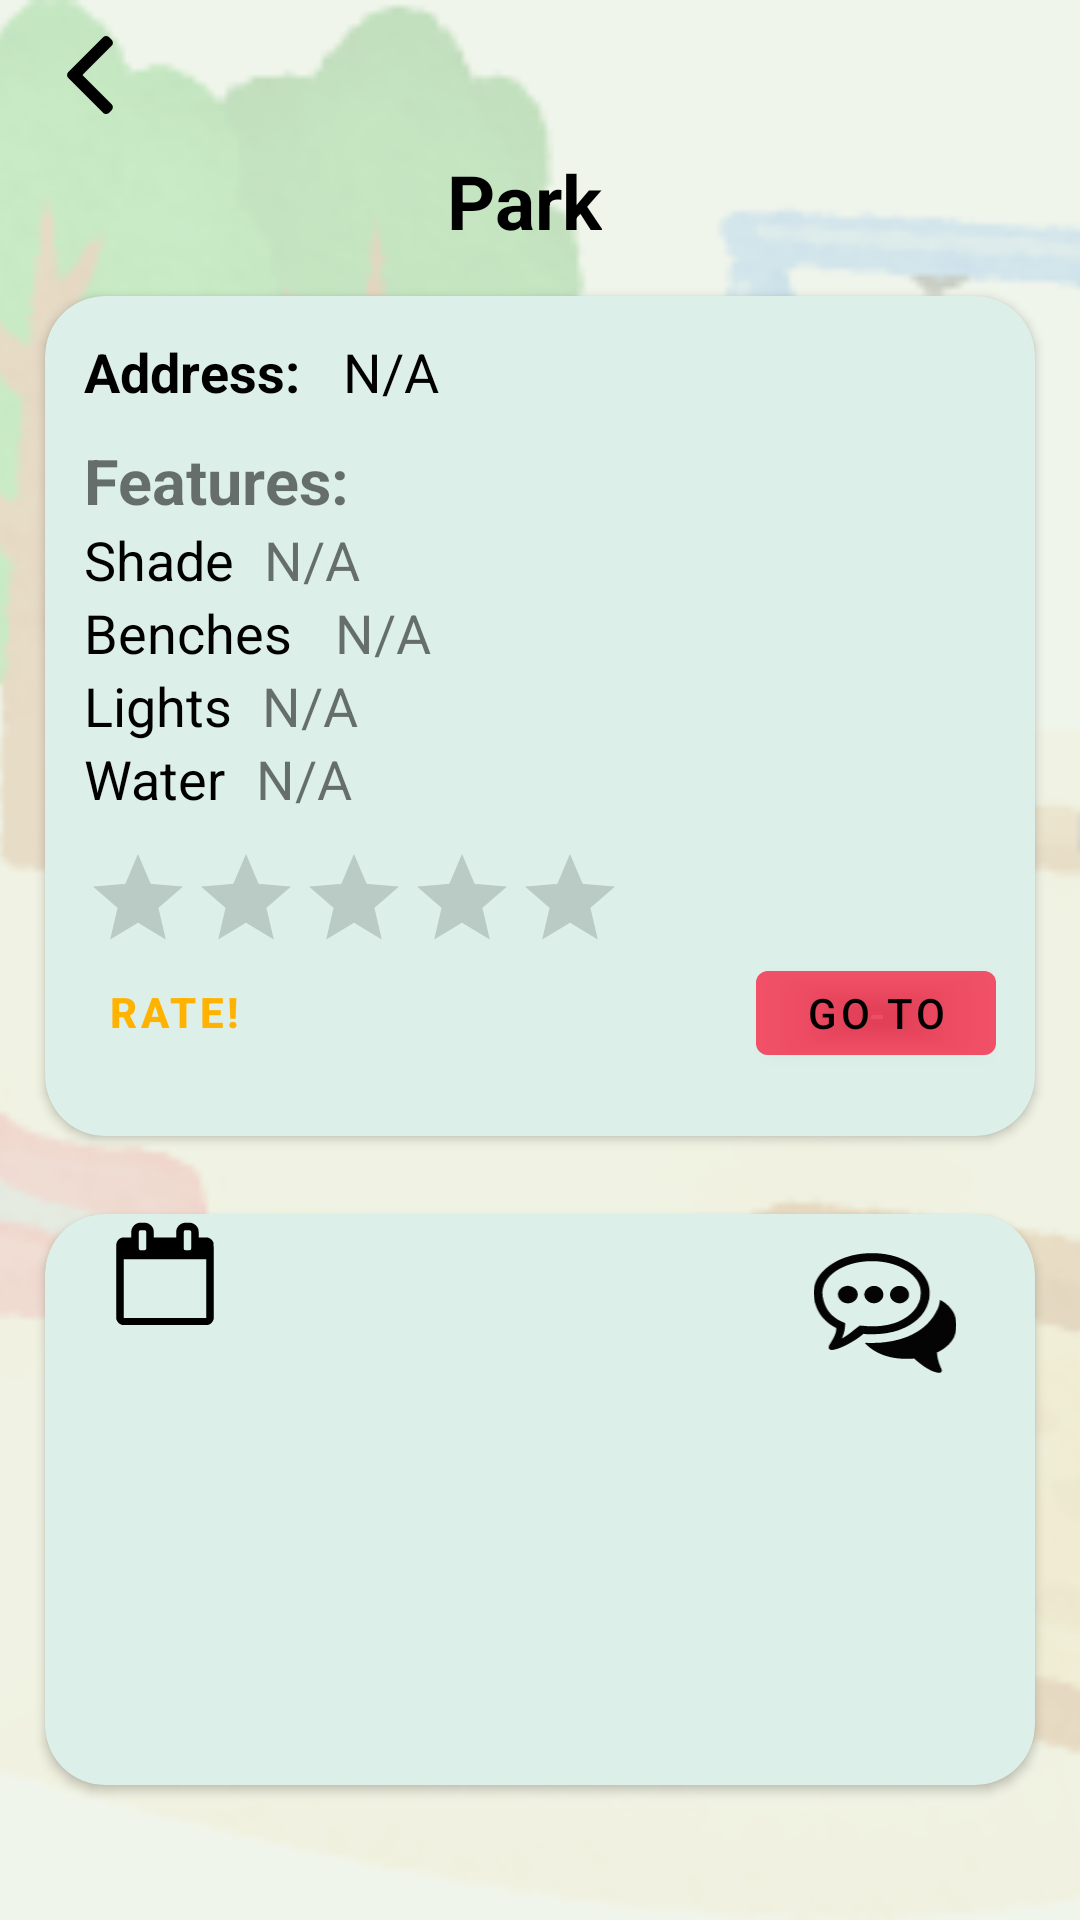

Screen size 1080*1920. Icon name, then its box in pixels as (x1, y1, x2, y2):
back arrow: (15, 0, 165, 114)
calander: (116, 1222, 214, 1325)
chat: (814, 1253, 956, 1373)
